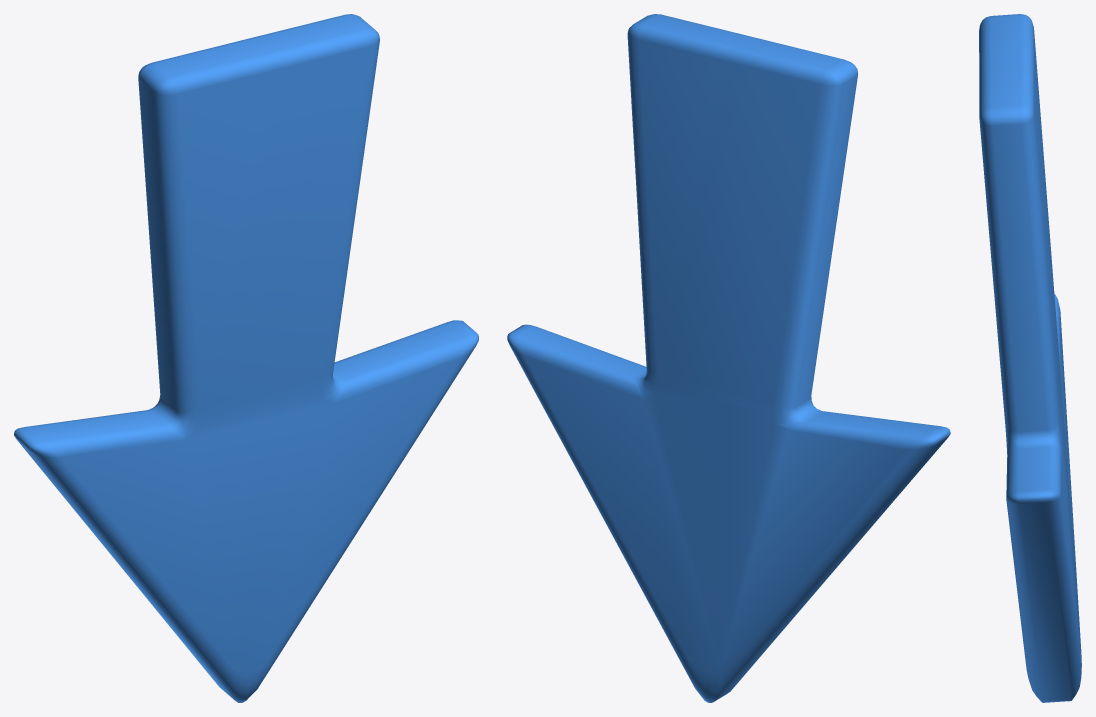
Rendered from arrow.glb.
3 renders of one model, left to right at view 1: azimuth 30°, elevation 25°; view 2: azimuth 150°, elevation 25°; view 3: azimuth 270°, elevation 25°, orthographic. The views are drawn at different scales.
Visible parts, largest first — view 1: Arrow; view 2: Arrow; view 3: Arrow.
Part boxes in pixels (x1,y1,x2,y2): Arrow: (14, 14, 478, 702); Arrow: (507, 14, 950, 702); Arrow: (979, 14, 1081, 702).
Size of the model in its own units: 2.11 by 3.01 by 0.4378.
